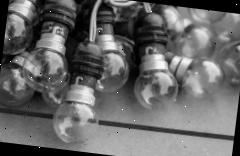lightbulb: (0, 0, 240, 156), (130, 46, 182, 113)
